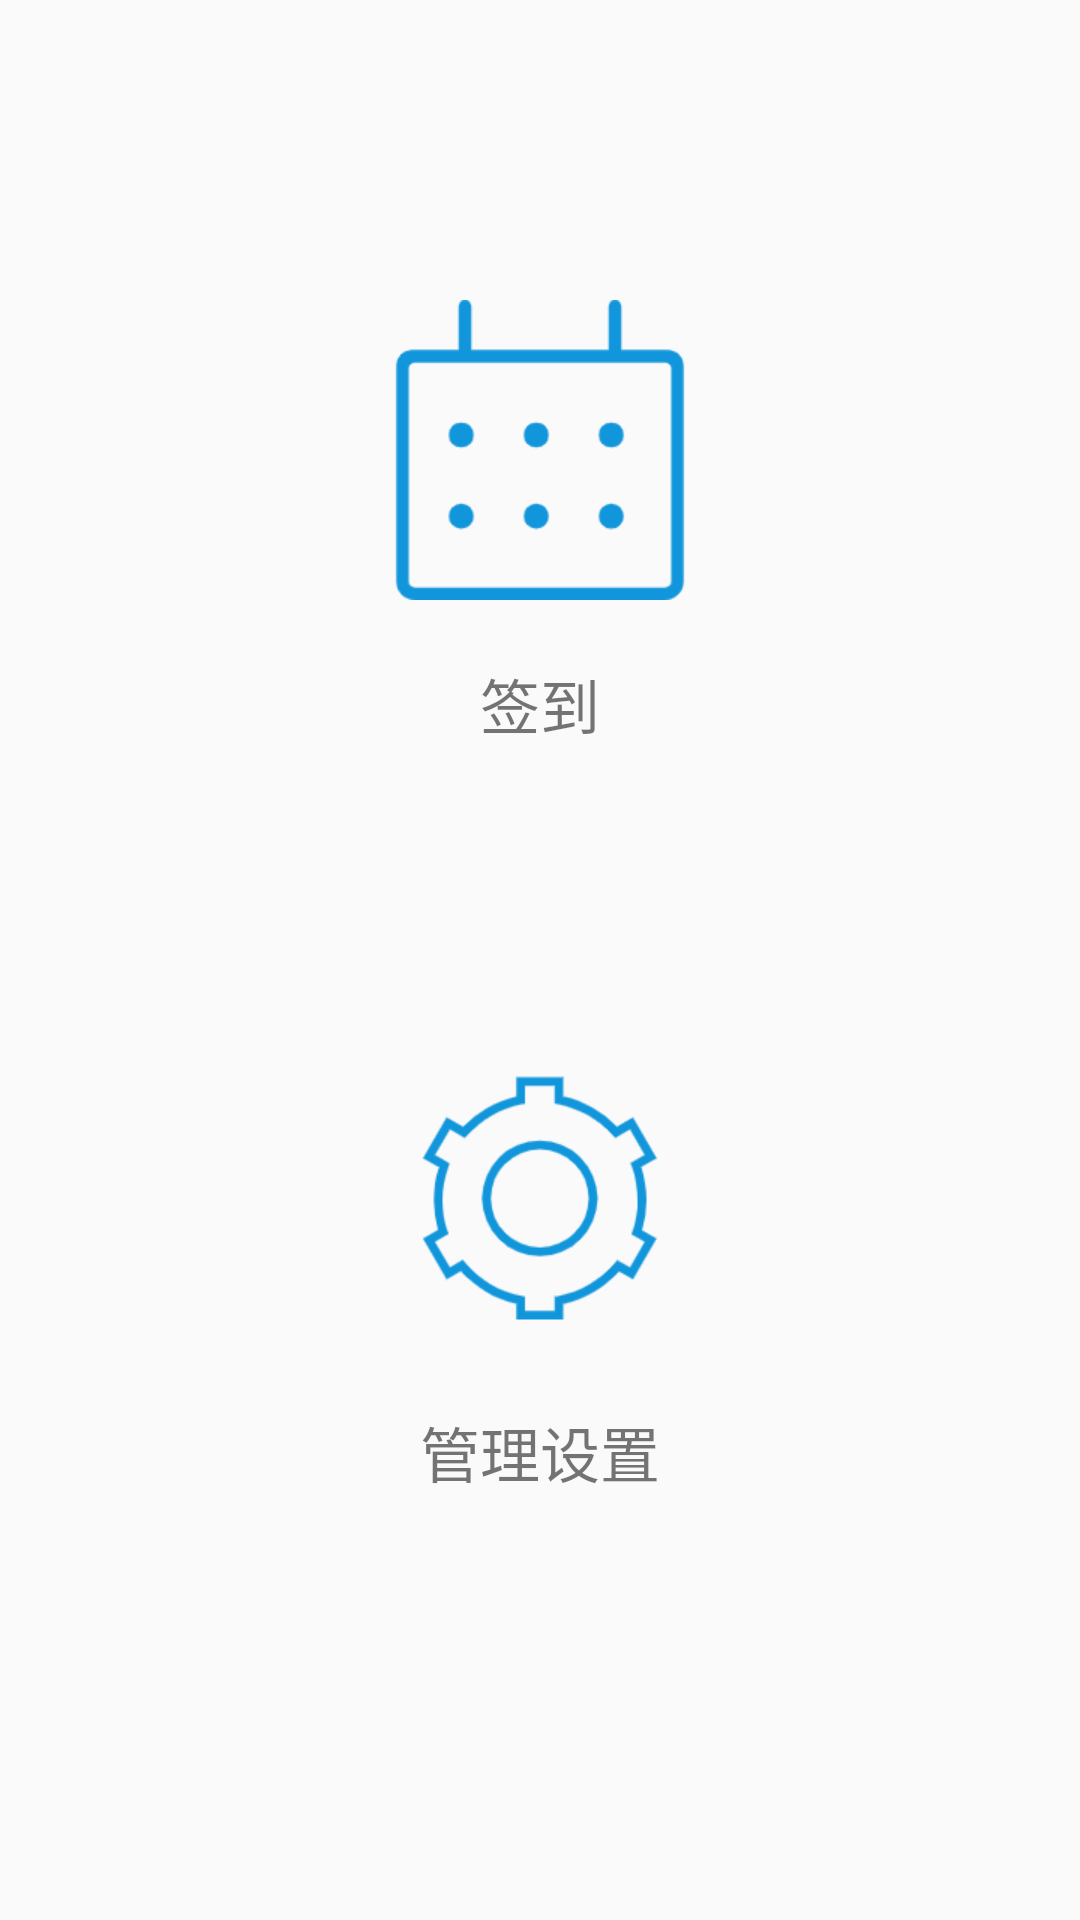

Where to tap for icons on this 1080px×1920px app screen, as (x=x, y=y):
setting: (x=539, y=1198)
